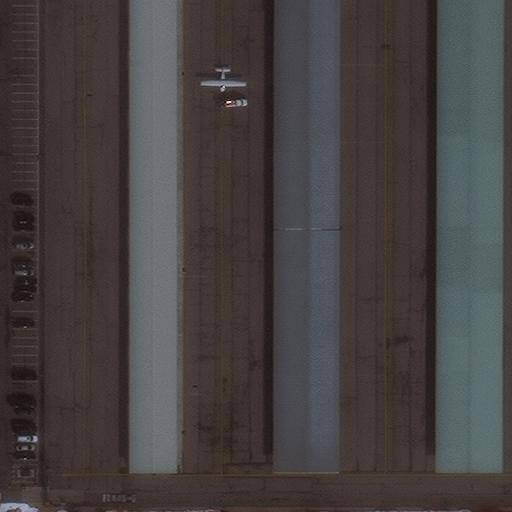Small Civil Transport: (201, 65, 244, 92)
